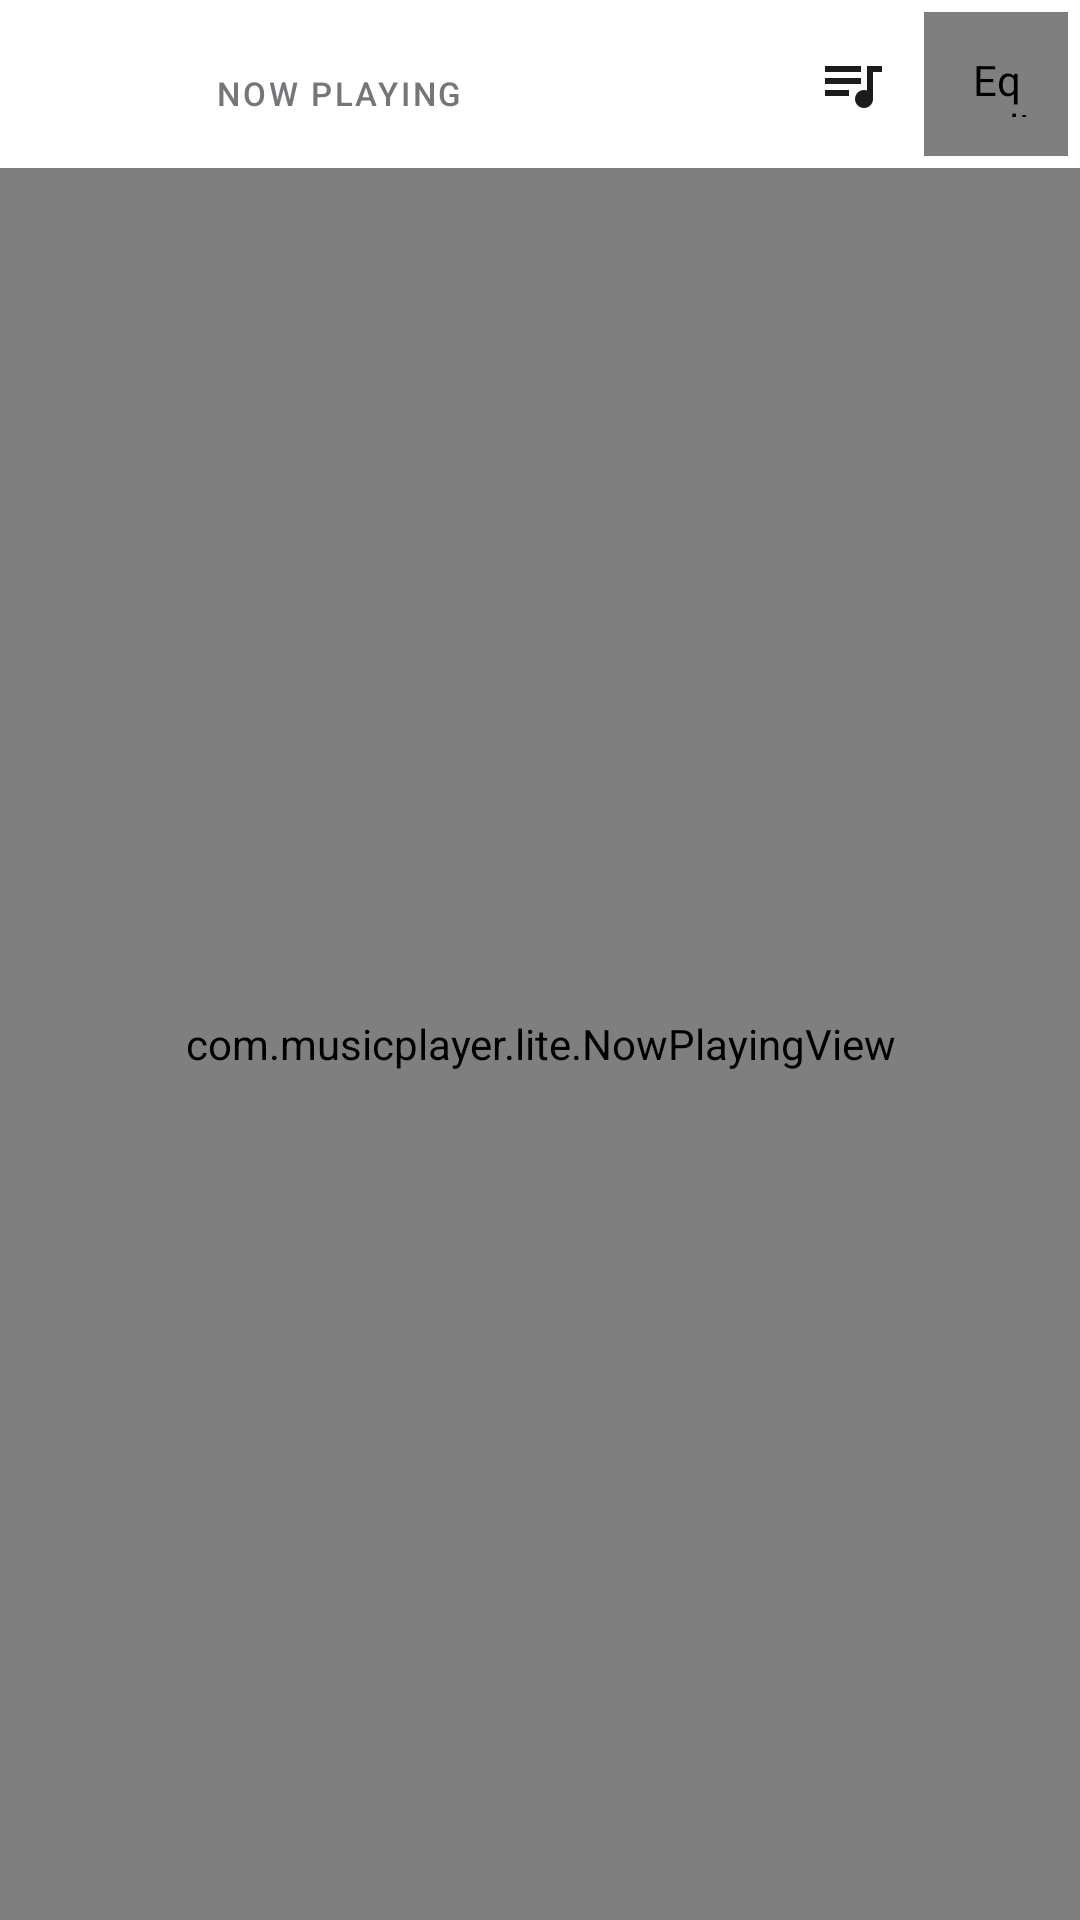

Named icons in this screenshot (1080 × 1920) and their bounding boxes, (x1, y1, x2, y2):
Up next: (825, 66, 882, 108)
